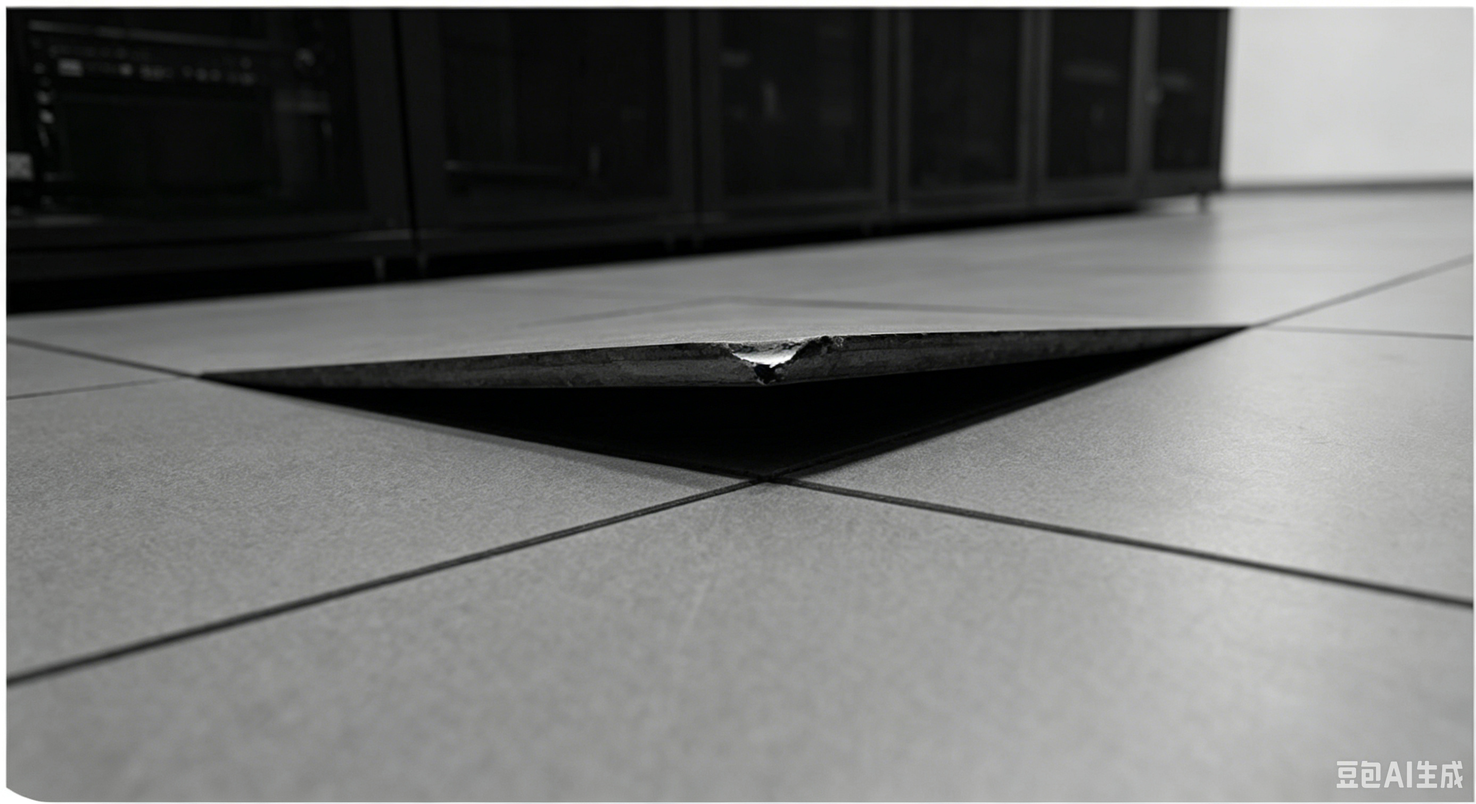floor_defect: (194, 291, 1258, 489)
